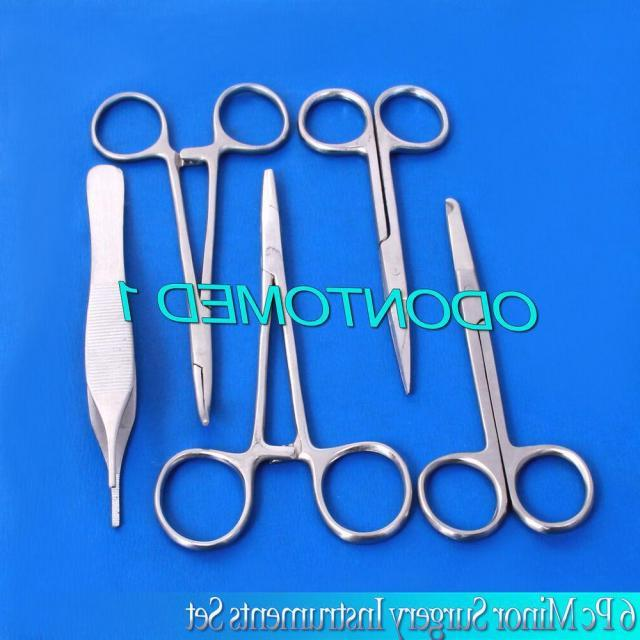Forceps: (80, 161, 142, 532)
Hemostat: (87, 81, 290, 428)
Iris: (293, 80, 451, 398)
Mayo_metz: (414, 192, 598, 544)
